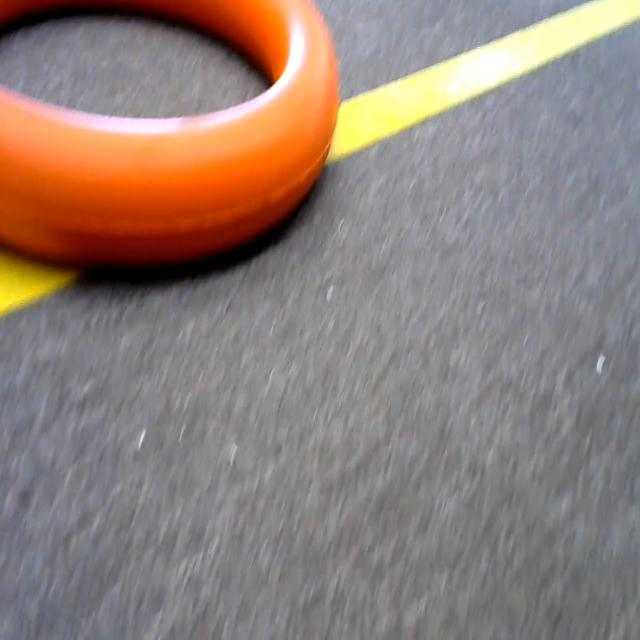note: (0, 0, 366, 266)
